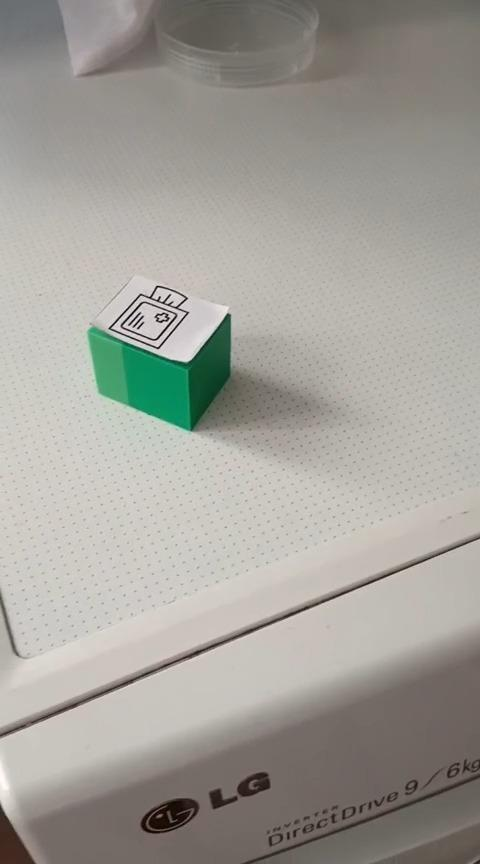Gauze: (86, 273, 232, 432)
